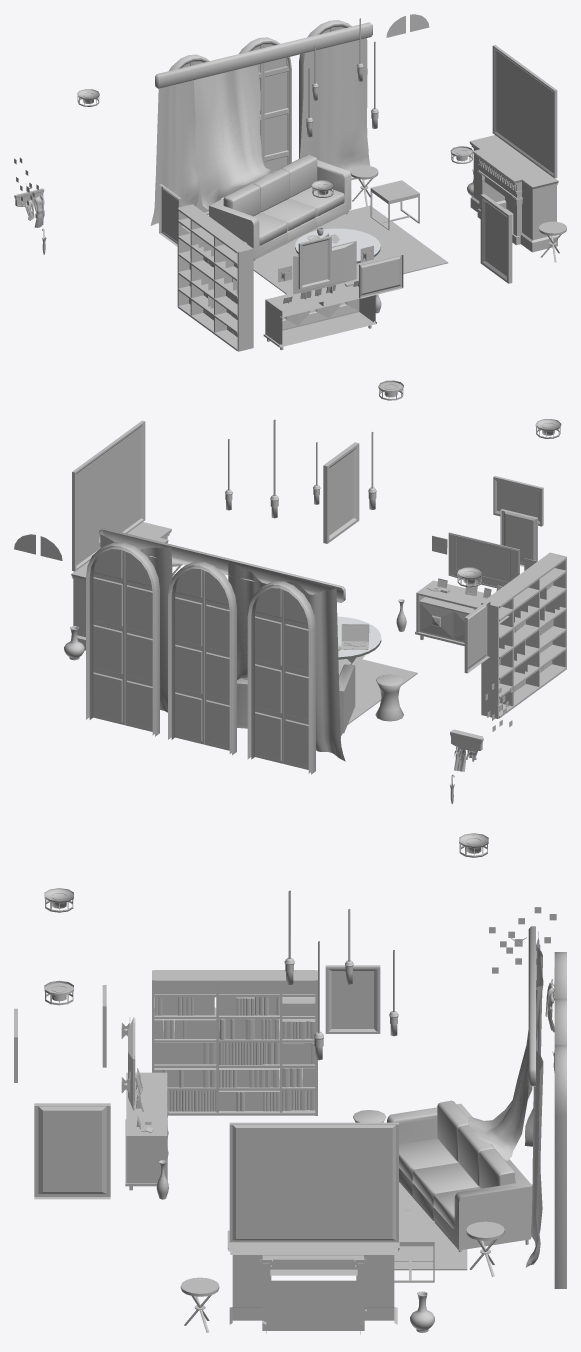
Rendered from Props_LivingRoom.FBX.
3 renders of one model, top to bottom at view 1: azimuth 30°, elevation 25°; view 2: azimuth 150°, elevation 25°; view 3: azimuth 270°, elevation 25°, orthographic. The views are drawn at different scales.
Visible parts, largest first — view 1: LRCurtains, LRPaintings, LRBookshelf, LRSofa, LRFireplace, LRTVStand, LRRug, LRCurtainCover, LRGlassPanes, LRLargeWindows, LRTV, LRTable1 (+6 smaller); view 2: LRGlassPanes, LRLargeWindows, LRPaintings, LRBookshelf, LRCurtains, LRTVStand, LRCurtainCover, LRTV, LRRug, LRSofa, LRFireplace, LRCeilingLights (+5 smaller); view 3: LRPaintings, LRBookshelf, LRSofa, LRFireplace, LRCurtains, LRFireplaceBase, LRLargeWindows, LRTVStand, LRRug, LRCeilingLights, LRHangingLights, LRCurtainCover (+4 smaller).
Part boxes in pixels (left/top/right/bottom): LRCurtains: left=150, top=38, right=370, bottom=225; LRPaintings: left=159, top=45, right=557, bottom=298; LRBookshelf: left=177, top=204, right=253, bottom=351; LRSofa: left=209, top=154, right=351, bottom=260; LRFireplace: left=469, top=135, right=558, bottom=252; LRTVStand: left=263, top=277, right=376, bottom=350; LRRug: left=253, top=205, right=448, bottom=294; LRCurtainCover: left=155, top=22, right=372, bottom=88; LRGlassPanes: left=182, top=14, right=429, bottom=212; LRLargeWindows: left=169, top=20, right=357, bottom=215; LRTV: left=293, top=241, right=356, bottom=294; LRTable1: left=370, top=180, right=419, bottom=230; LRGlassPanes: left=14, top=534, right=308, bottom=767; LRLargeWindows: left=86, top=542, right=315, bottom=774; LRPaintings: left=72, top=420, right=543, bottom=673; LRBookshelf: left=481, top=552, right=566, bottom=718; LRCurtains: left=100, top=534, right=345, bottom=761; LRTVStand: left=415, top=580, right=491, bottom=645; LRCurtainCover: left=99, top=528, right=345, bottom=602; LRTV: left=448, top=532, right=519, bottom=588; LRRug: left=338, top=659, right=417, bottom=724; LRSofa: left=237, top=664, right=355, bottom=738; LRFireplace: left=71, top=522, right=171, bottom=650; LRCeilingLights: left=378, top=380, right=561, bottom=587; LRPaintings: left=14, top=965, right=398, bottom=1244; LRBookshelf: left=152, top=970, right=317, bottom=1115; LRSofa: left=387, top=1100, right=532, bottom=1251; LRFireplace: left=227, top=1230, right=399, bottom=1334; LRCurtains: left=468, top=931, right=543, bottom=1267; LRFireplaceBase: left=262, top=1280, right=364, bottom=1330; LRLargeWindows: left=554, top=952, right=566, bottom=1288; LRTVStand: left=125, top=1072, right=168, bottom=1190; LRRug: left=394, top=1182, right=467, bottom=1270; LRCeilingLights: left=44, top=833, right=488, bottom=1005; LRHangingLights: left=284, top=890, right=398, bottom=1060; LRCurtainCover: left=528, top=926, right=535, bottom=1086.
Bounding box in the file's own units: 9.67 × 4.76 × 8.
